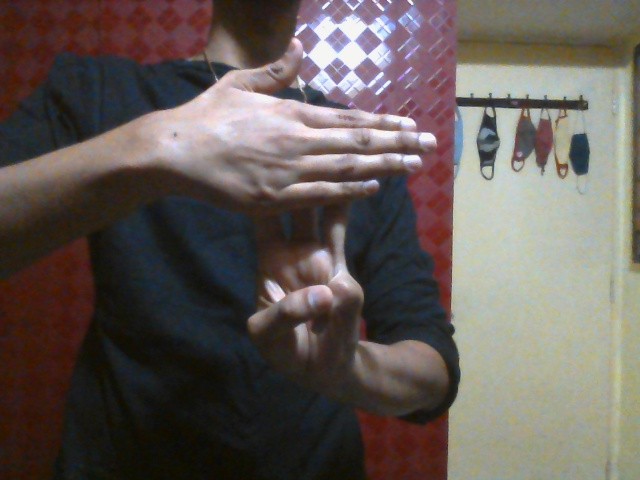M: (178, 36, 439, 380)
